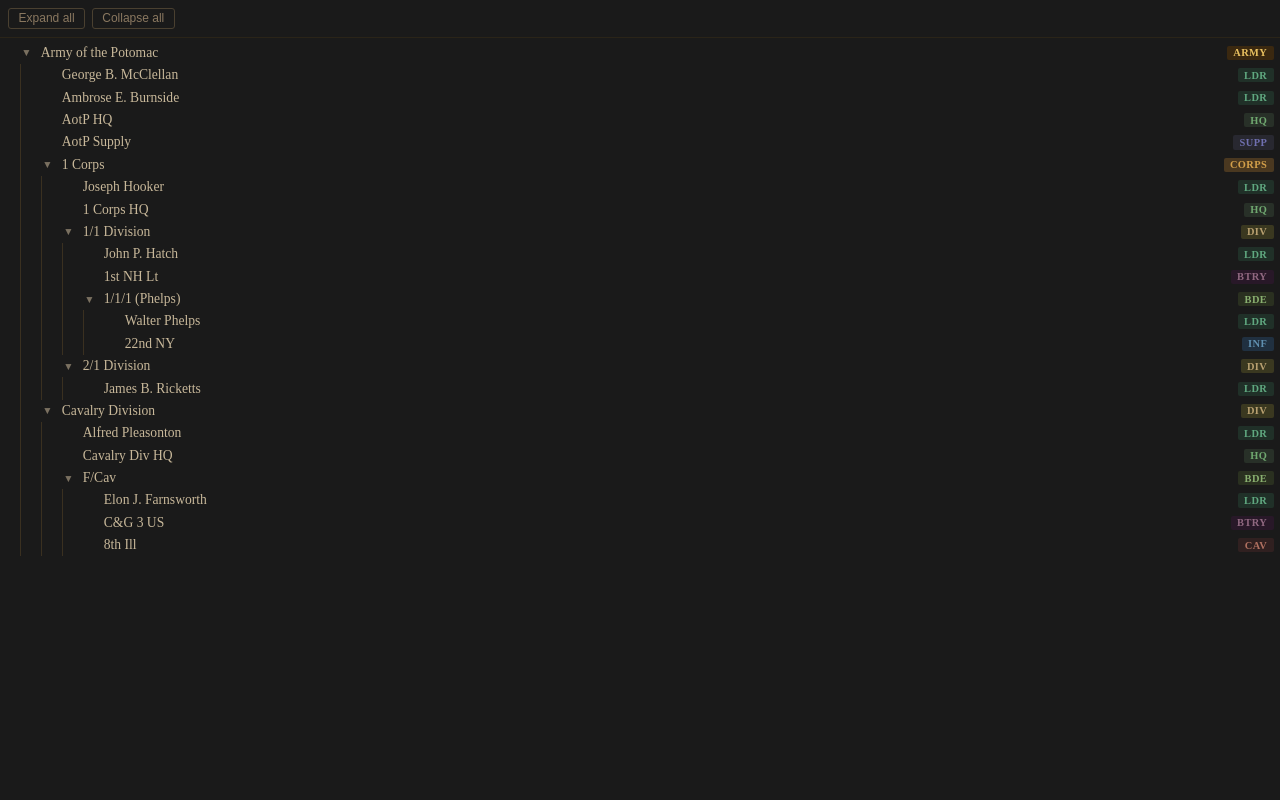
OobHierarchyTree — expand/collapse all › expands all nodes after collapsing
The image size is (1280, 800).
Click the button with class "control-btn" showing "Collapse all" at point(133, 18), box [92, 8, 175, 29]
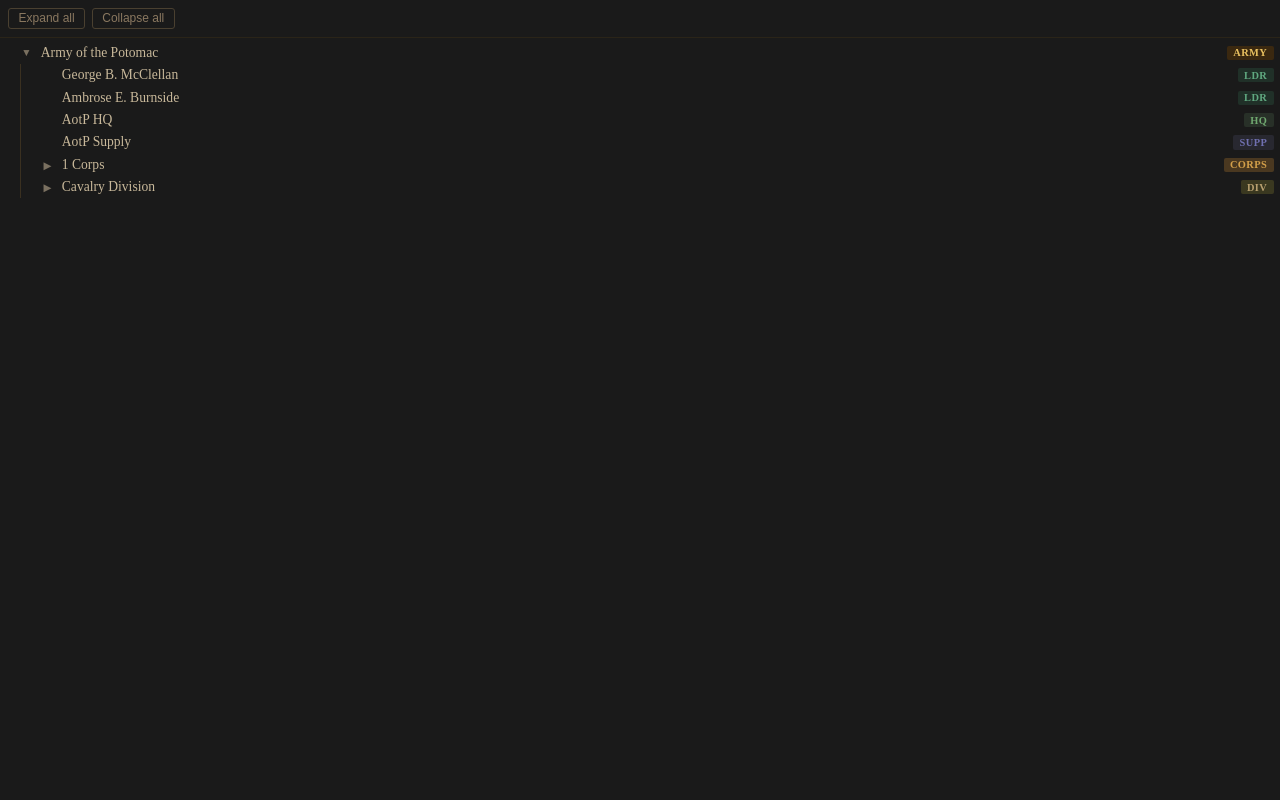
Result: the text "1/1 Division" is gone
Click the button with class "control-btn" showing "Expand all" at point(47, 18), box [8, 8, 85, 29]
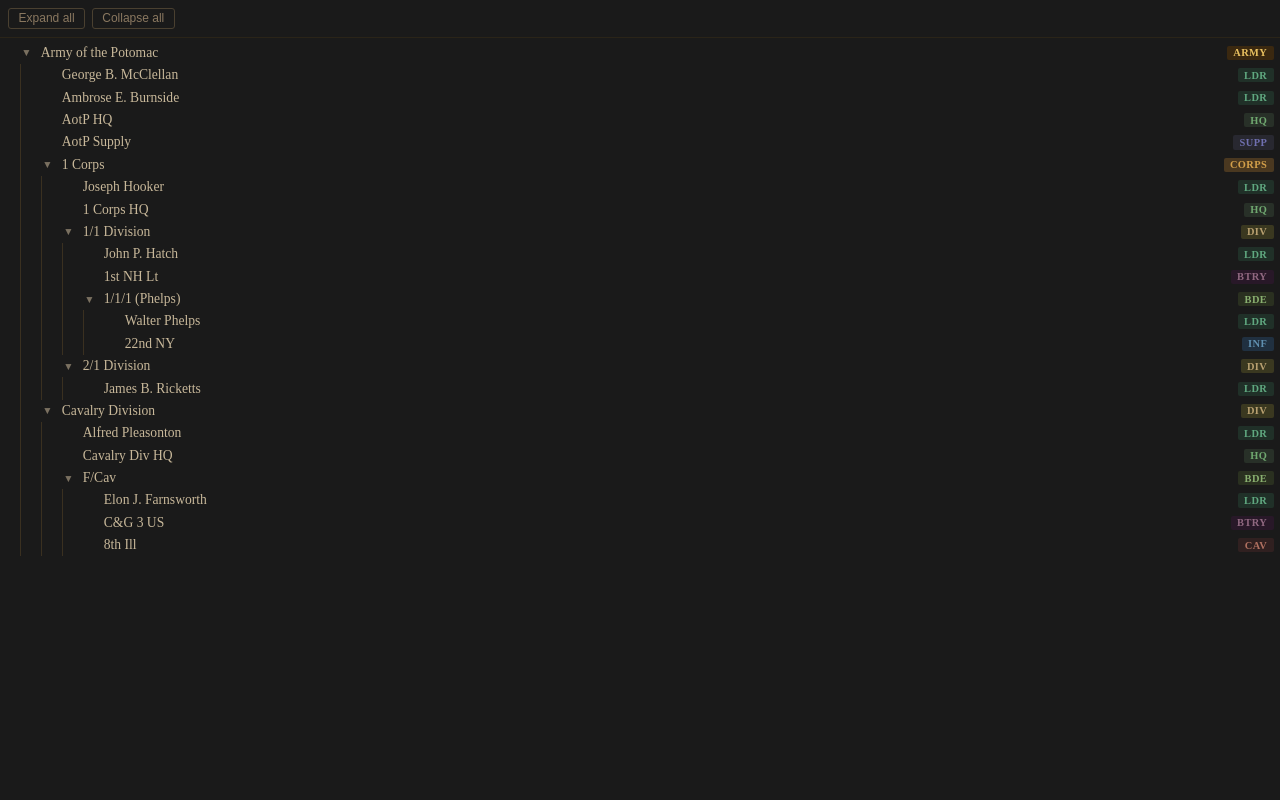
Result: the text "1/1 Division" is shown at [83, 224, 150, 239]
